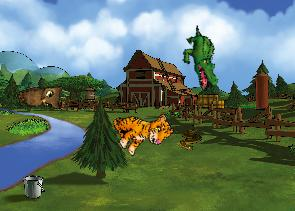crocodile: (170, 24, 233, 93)
owl: (15, 80, 67, 119)
tiger: (107, 96, 176, 162)
